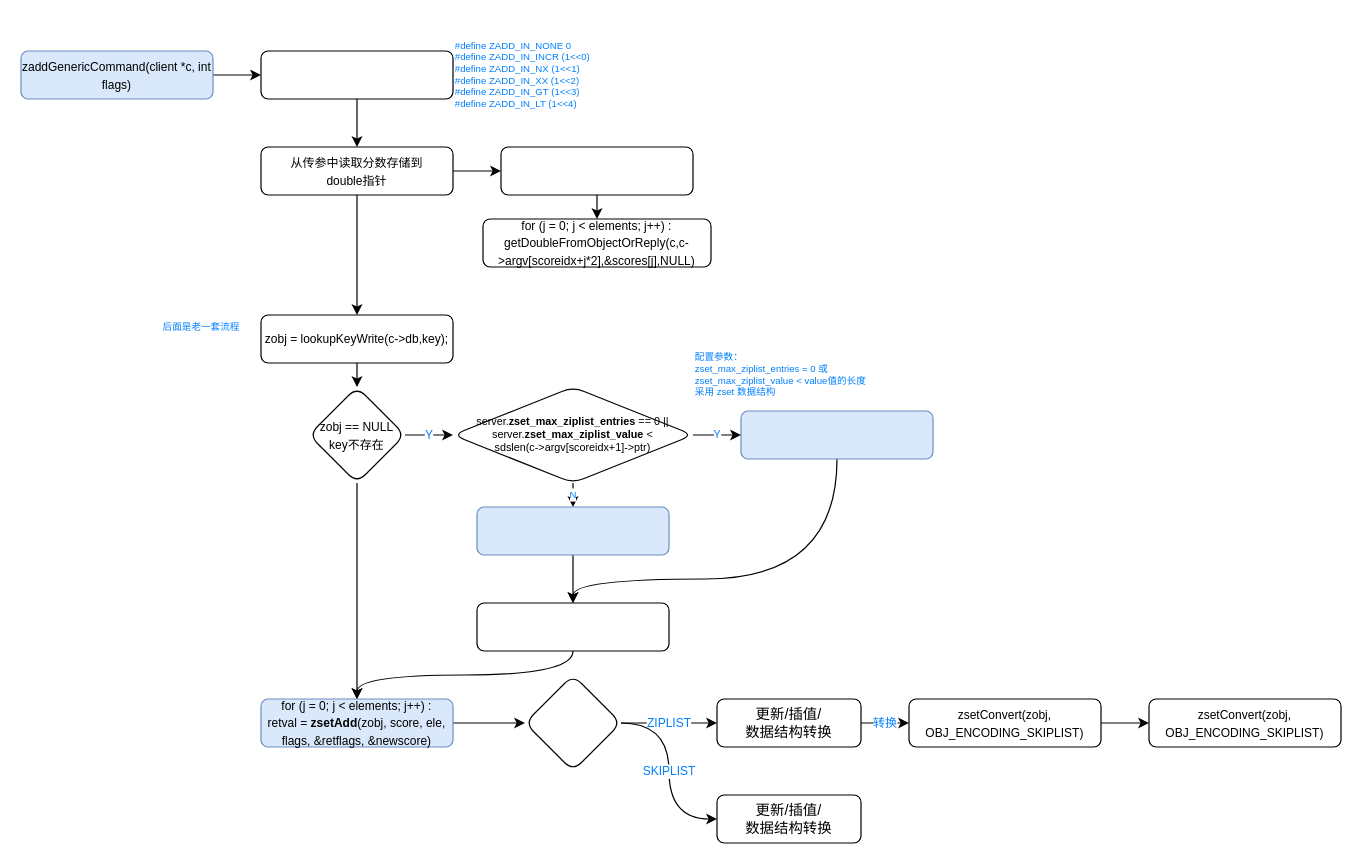
The diagram is 1362 pixels wide and 864 high, and some of its shapes have lost their labels. The centre of each missing label's shape, as x and y in pixels:
"dbAdd(c->db,key,zobj)" goes at (x=572, y=626).
"scores = zmalloc(sizeof(double)*elements);" goes at (x=596, y=170).
"zobj = createZsetObject()" goes at (x=836, y=434).
"zobj = createZsetZiplistObject()" goes at (x=572, y=530).
"zobj->encoding" goes at (x=572, y=722).
"解析特殊参数 flags 低4bit每bit代表一种含义" goes at (x=356, y=74).
